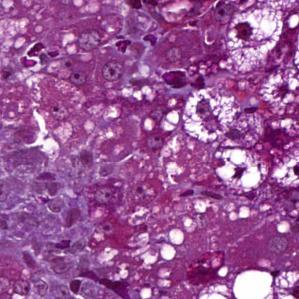ballooning: (220, 8, 285, 76), (179, 86, 240, 148), (212, 137, 278, 194)
